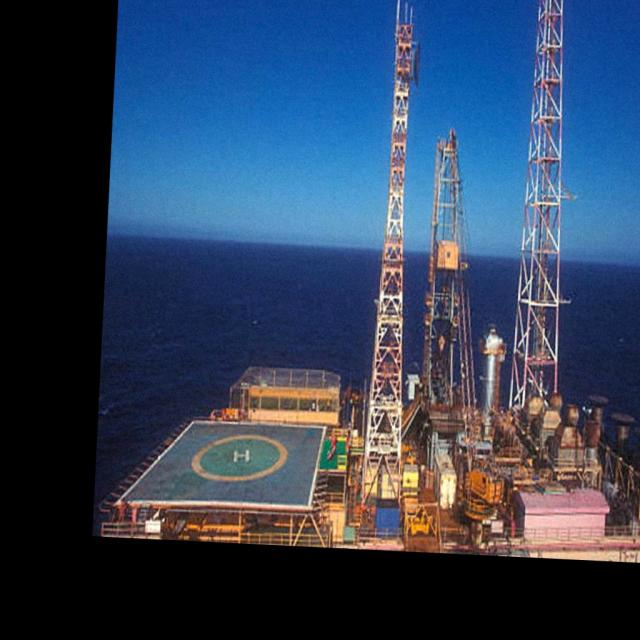helipad: (188, 433, 288, 483)
